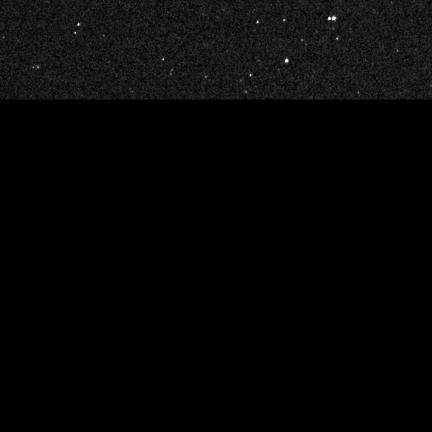blob: (332, 16, 336, 21), (328, 17, 332, 21), (78, 23, 81, 27), (285, 59, 288, 63), (257, 21, 260, 24), (337, 38, 340, 41), (74, 32, 77, 35), (250, 74, 253, 77), (284, 19, 287, 22), (162, 58, 165, 61)
